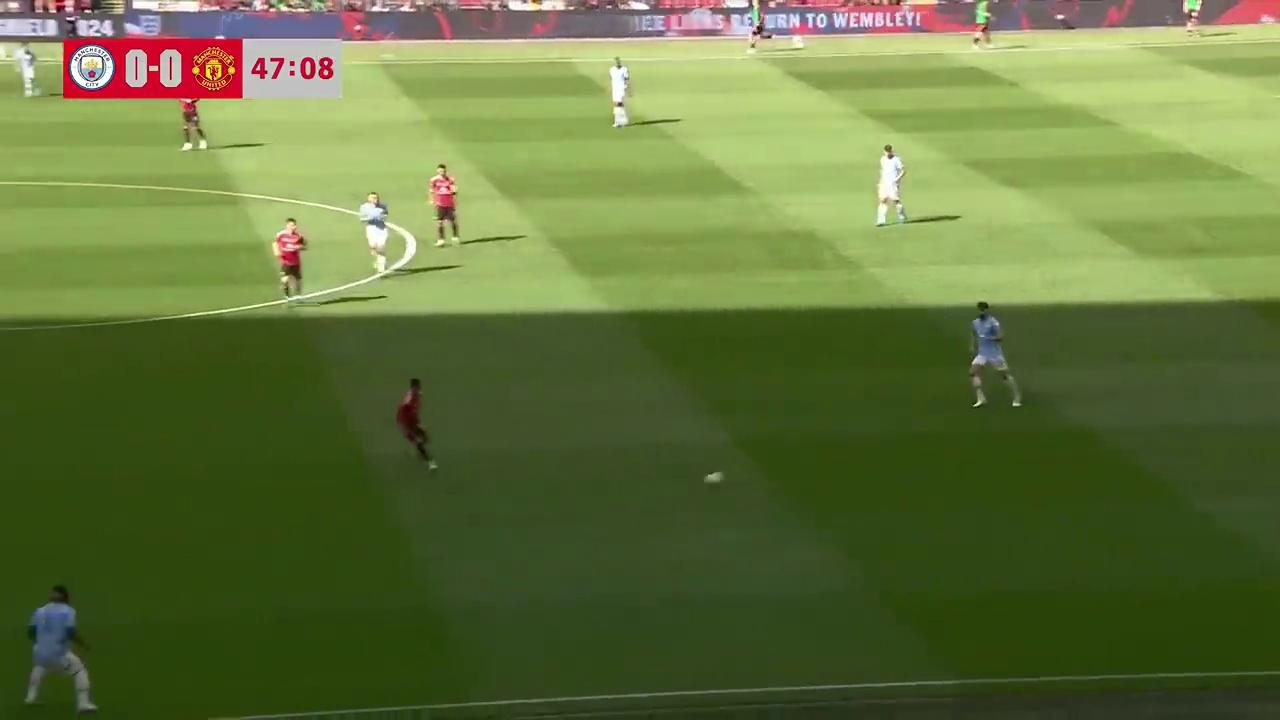ball: (702, 467, 726, 487)
player: (23, 585, 98, 709), (968, 301, 1022, 409), (394, 377, 438, 472), (358, 192, 397, 275), (271, 216, 308, 301), (427, 162, 460, 248), (874, 144, 907, 227), (179, 93, 207, 151), (608, 57, 630, 129), (12, 43, 38, 97)
